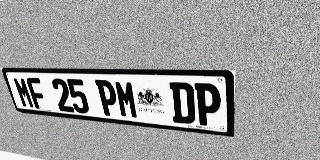2: (50, 78, 74, 112)
5: (66, 79, 91, 114)
D: (169, 82, 195, 124)
F: (25, 77, 49, 110)
M: (114, 80, 139, 119), (12, 77, 35, 108)
P: (194, 83, 221, 127), (95, 80, 120, 117)
